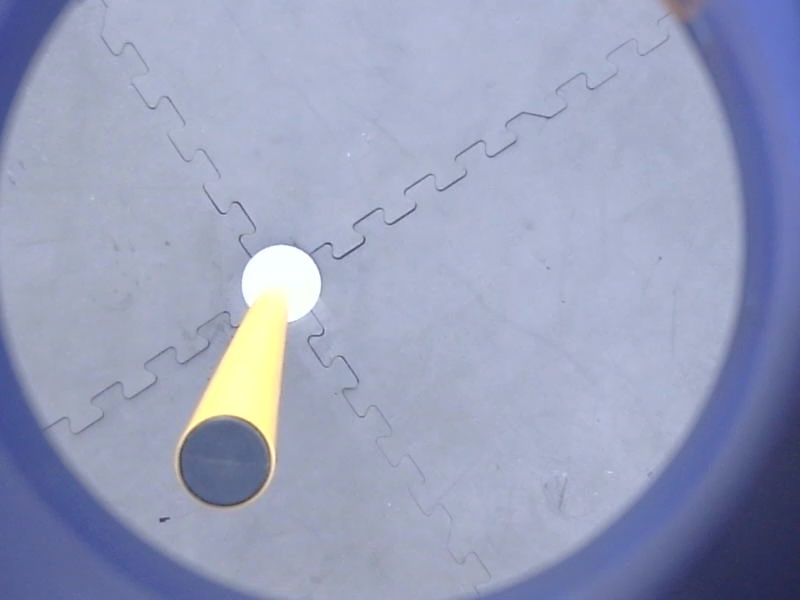tip: (169, 409, 279, 516)
